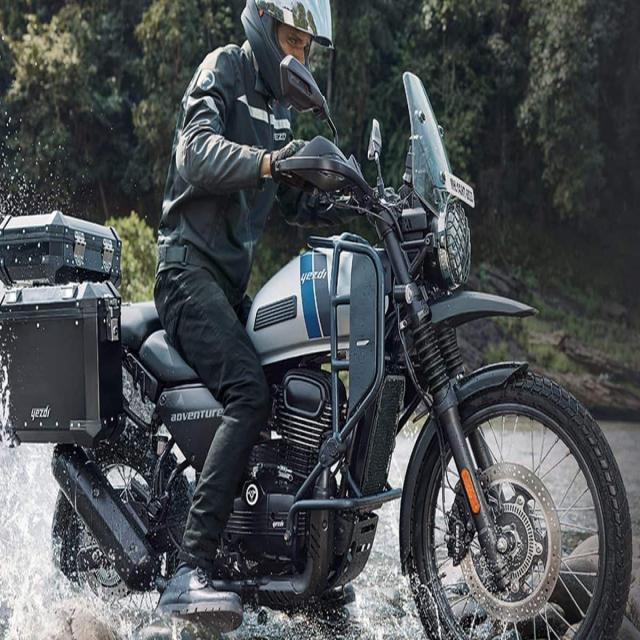motorcycle: (0, 0, 630, 638)
